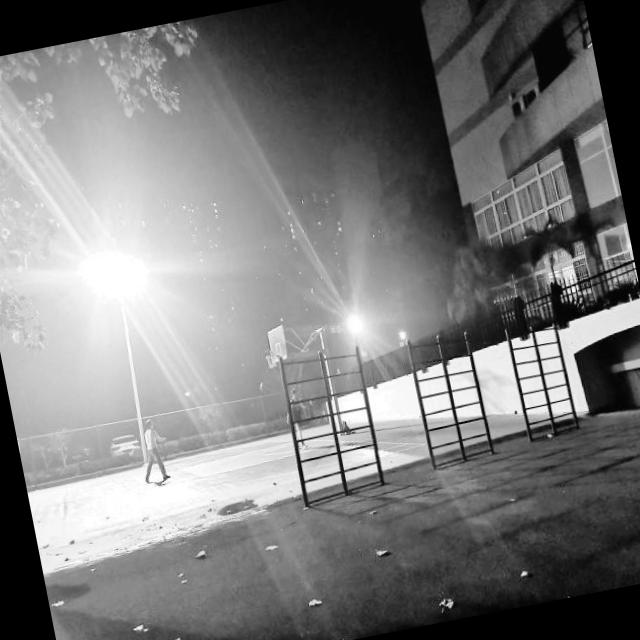Light: (74, 200, 188, 492), (335, 287, 388, 363)
